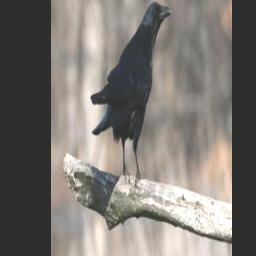Crow: (91, 0, 173, 190)
